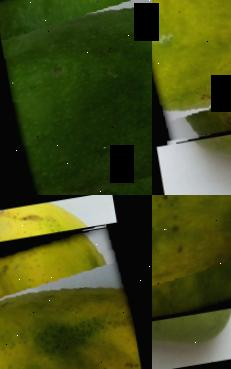PartiallyRipe: (152, 0, 231, 143), (152, 195, 231, 328)
Ripe: (0, 225, 152, 369)
Unripe: (0, 0, 152, 195)
